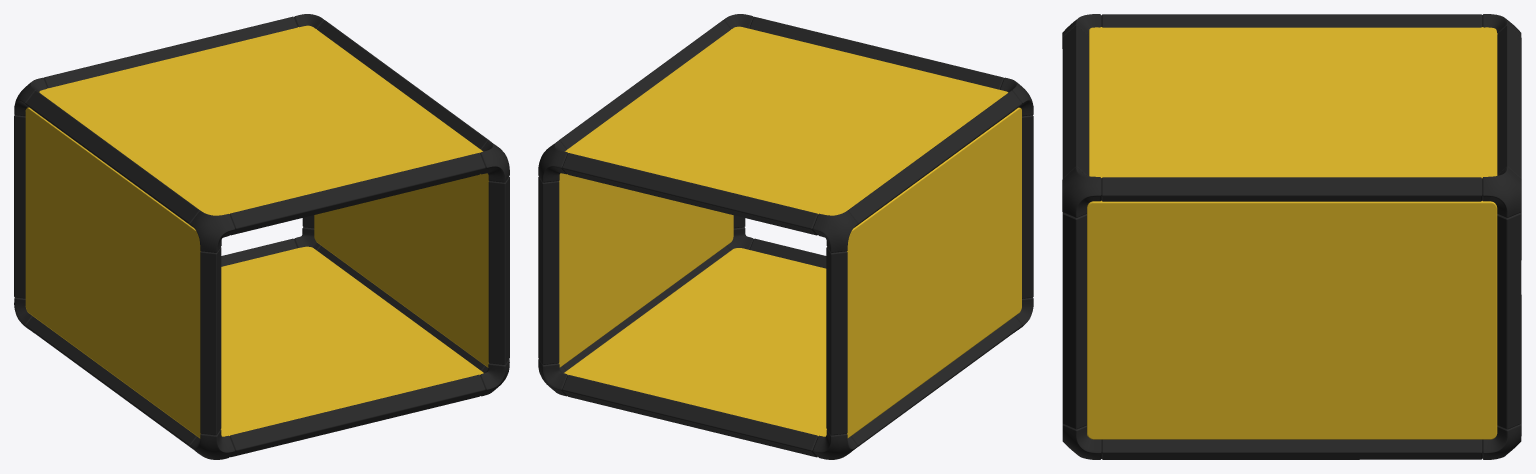
3 renders of one model, left to right at view 1: azimuth 30°, elevation 25°; view 2: azimuth 150°, elevation 25°; view 3: azimuth 270°, elevation 25°, orthographic. The views are drawn at different scales.
Parts seen in each view (by area): view 1: 329x374x229; view 2: 329x374x229; view 3: 329x374x229.
Boxes of the visible parts, box(x1,y1,x2,y2) form: 329x374x229: box(14, 14, 509, 459); 329x374x229: box(538, 14, 1033, 459); 329x374x229: box(1062, 14, 1521, 459).
Bounding box in the file's own units: 0.4068 × 0.3067 × 0.4513.
